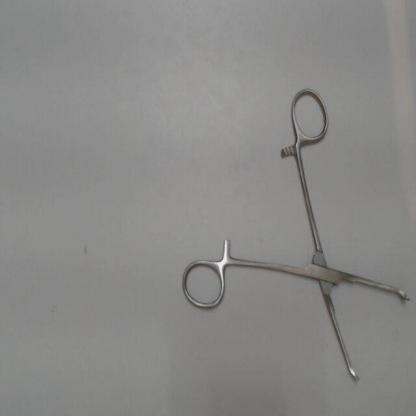Allis Tissue Forceps: (176, 80, 416, 396)
